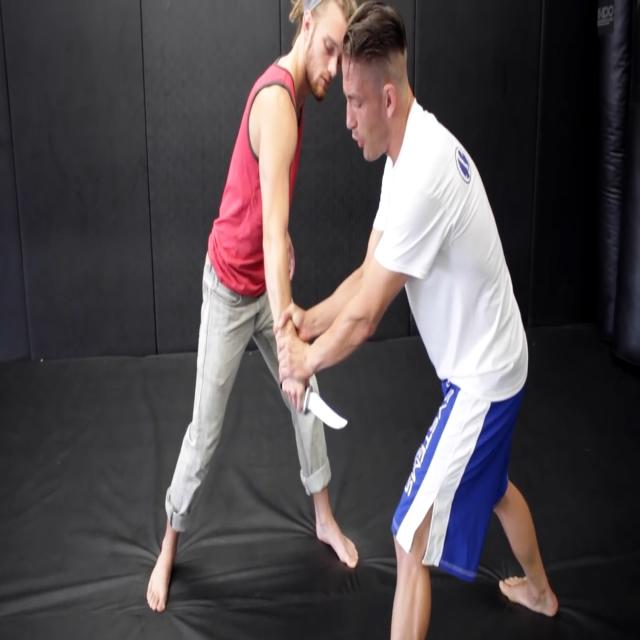knife: (304, 387, 352, 437)
